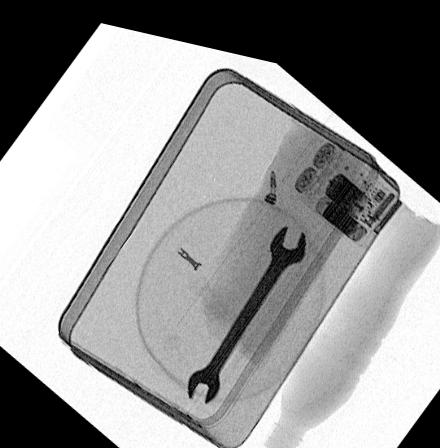Wrench: (184, 210, 308, 396)
